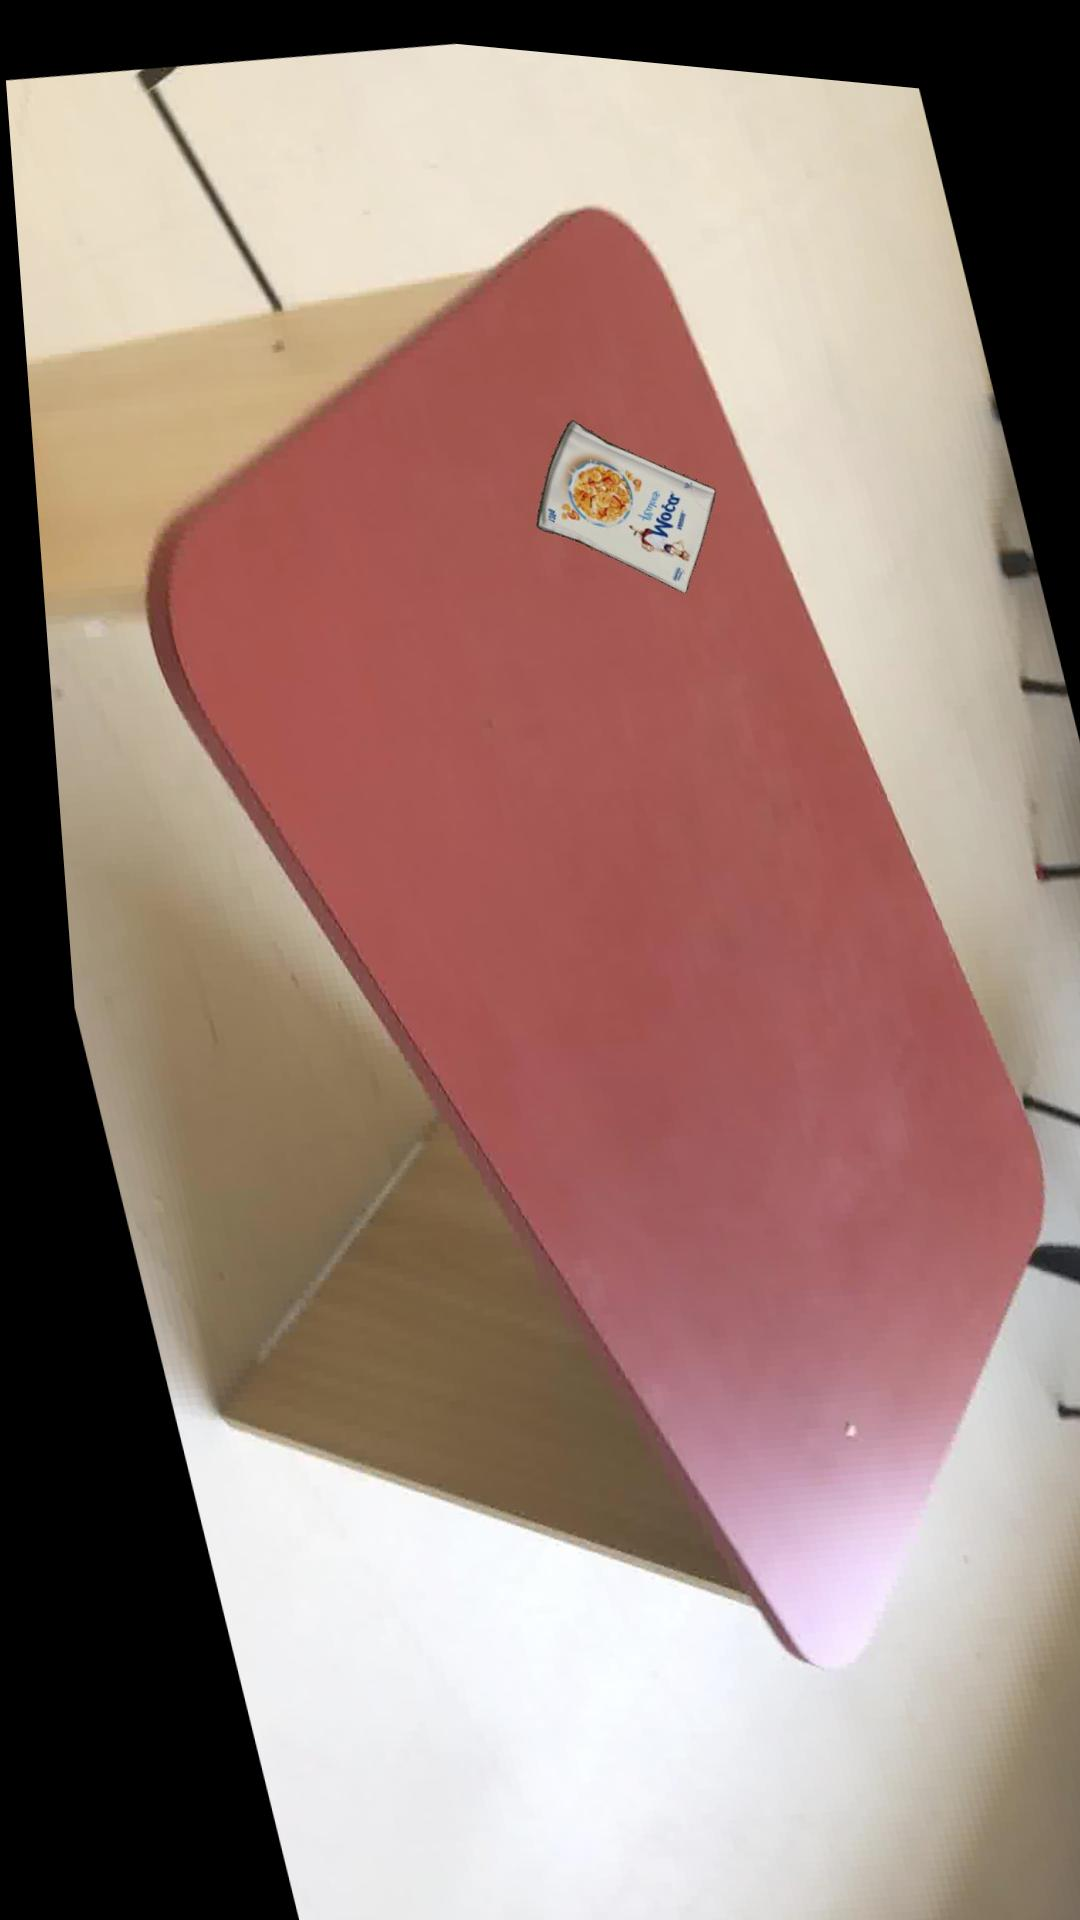corn flakes: (527, 407, 707, 579)
